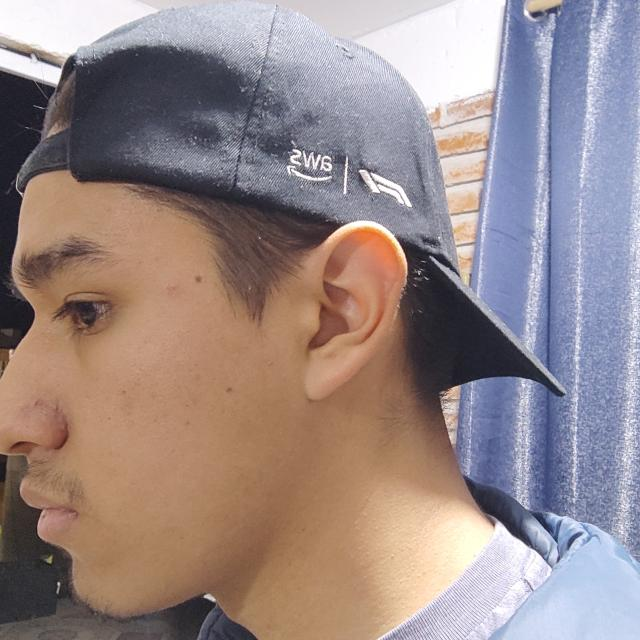ear: (294, 221, 408, 401)
